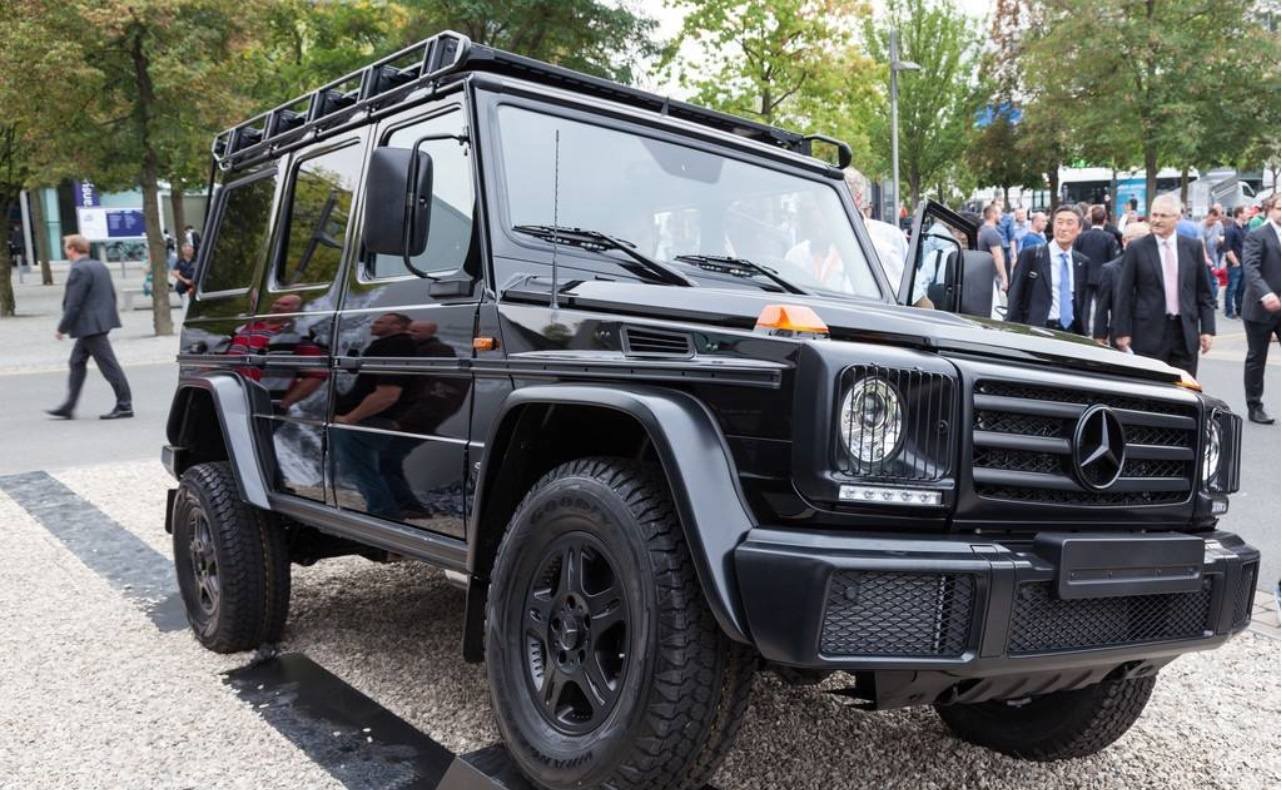jeep: (162, 36, 1267, 790)
